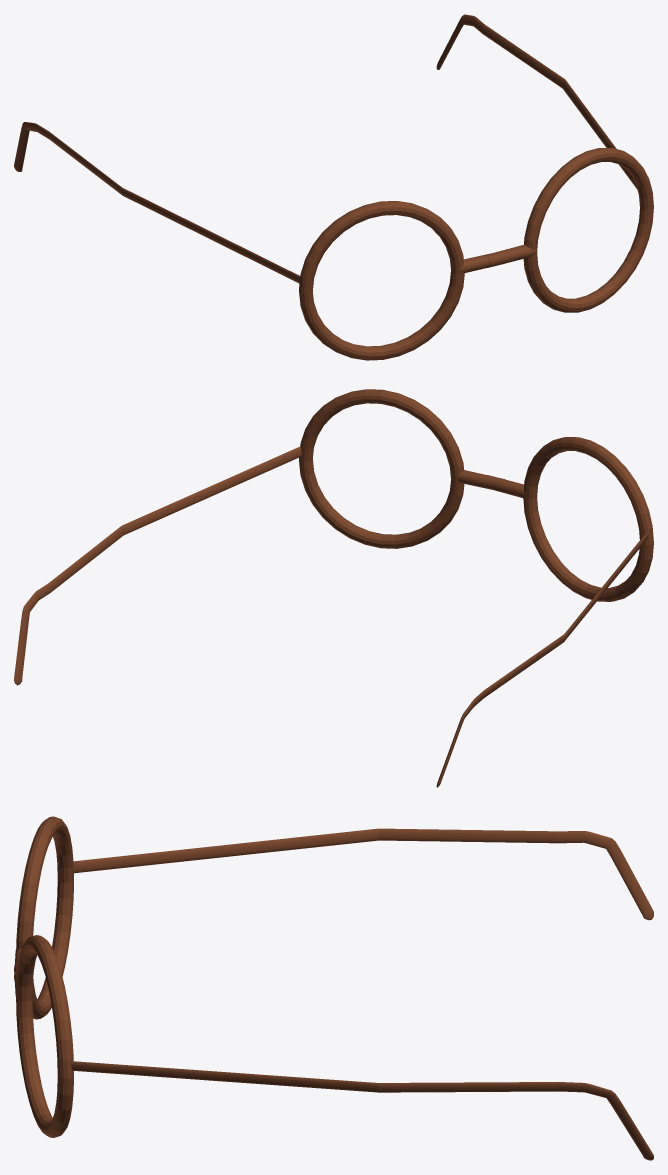
File: glasses.glb
3 renders of one model, top to bottom at view 1: azimuth 30°, elevation 25°; view 2: azimuth 150°, elevation 25°; view 3: azimuth 270°, elevation 25°, orthographic. The views are drawn at different scales.
Parts seen in each view (by area): view 1: Cylinder; view 2: Cylinder; view 3: Cylinder.
Part boxes in pixels (x1=…): Cylinder: x1=14, y1=14, x2=653, y2=360; Cylinder: x1=14, y1=389, x2=653, y2=787; Cylinder: x1=14, y1=816, x2=653, y2=1160.
Bounding box in the file's own units: 0.1074 × 0.0363 × 0.1138.
